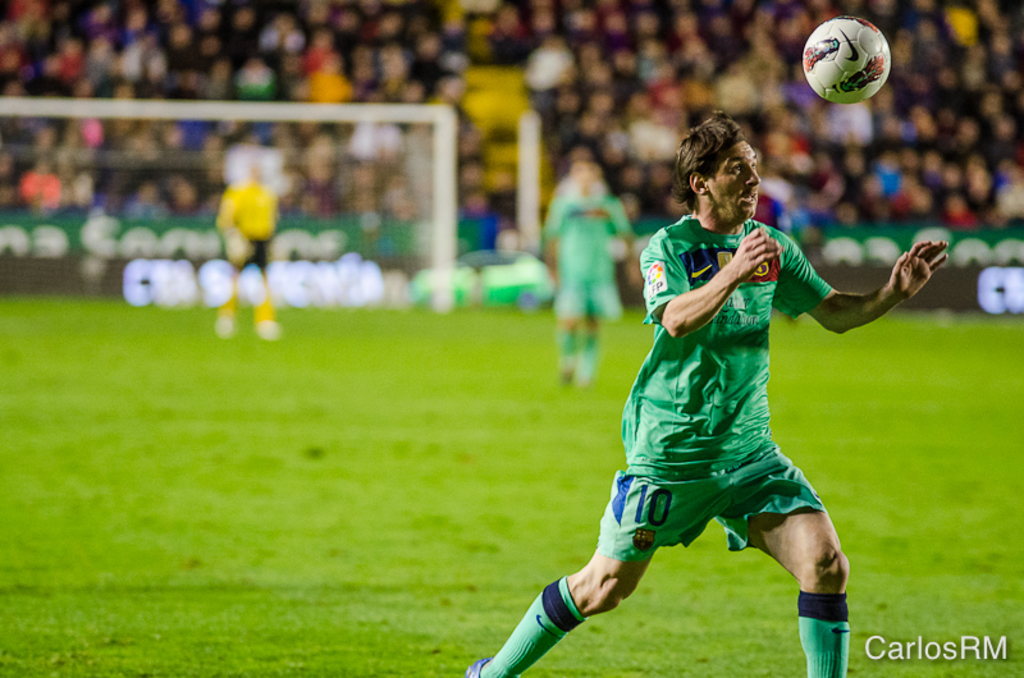Person: (467, 109, 948, 678)
